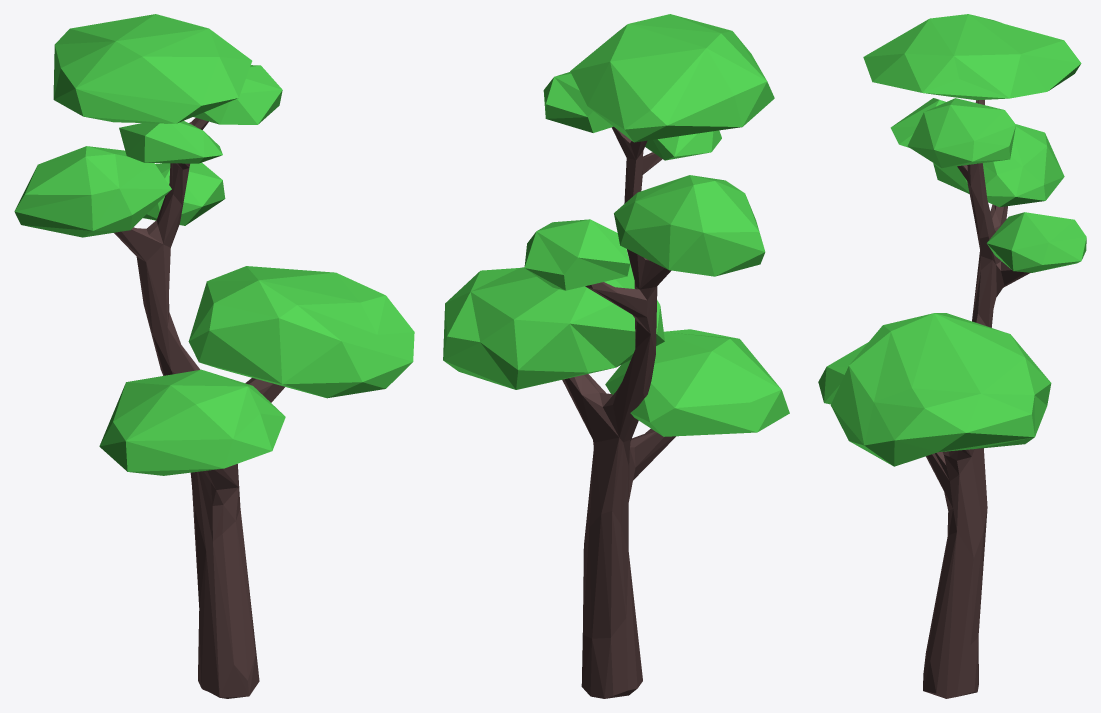
3 views of the same model, side by side, from view 1: azimuth 30°, elevation 25°; view 2: azimuth 150°, elevation 25°; view 3: azimuth 270°, elevation 25° (orthographic). The views are drawn at different scales.
Parts seen in each view (by area): view 1: leaves_Icosphere.001, trunk_Cube.003; view 2: leaves_Icosphere.001, trunk_Cube.003; view 3: leaves_Icosphere.001, trunk_Cube.003.
Part boxes in pixels (x1,y1,x2,y2): leaves_Icosphere.001: (14, 14, 414, 475); trunk_Cube.003: (114, 118, 284, 698); leaves_Icosphere.001: (443, 14, 789, 436); trunk_Cube.003: (562, 126, 675, 698); leaves_Icosphere.001: (818, 14, 1086, 466); trunk_Cube.003: (923, 100, 1030, 698).
Bounding box in the file's own units: 475 × 890 × 345.
